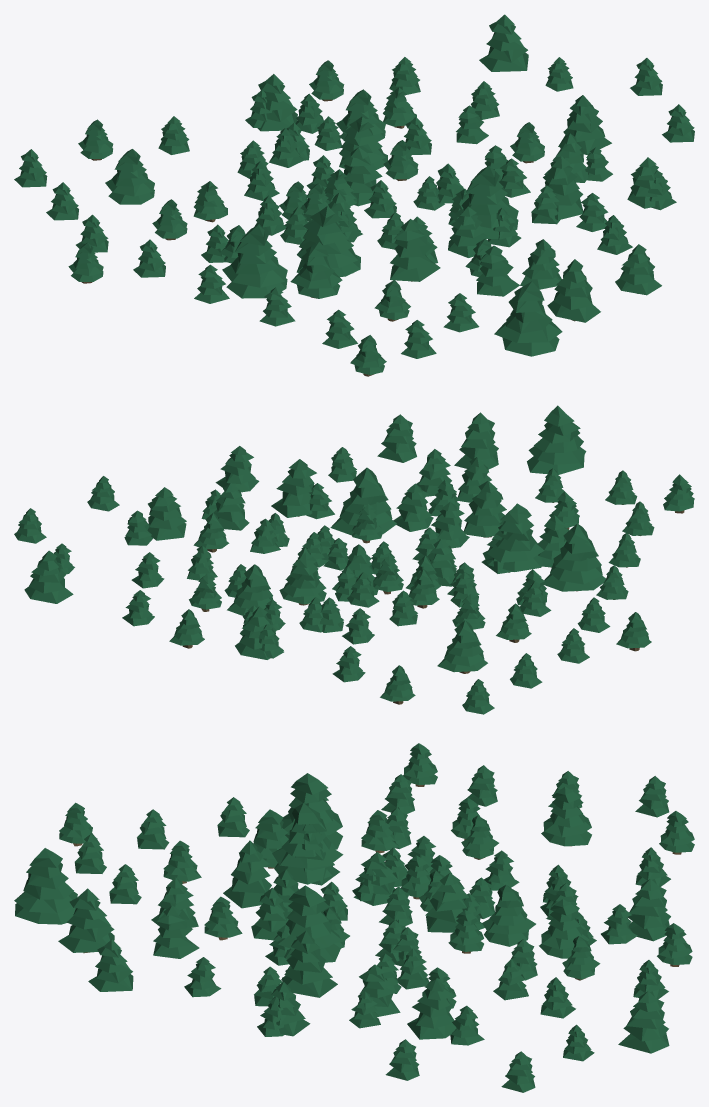
Rendered from trees.dae.
The picture shows the model from 3 angles, top to bottom: view 1: azimuth 30°, elevation 25°; view 2: azimuth 150°, elevation 25°; view 3: azimuth 270°, elevation 25°; orthographic projection. The views are drawn at different scales.
Visible parts, largest first — view 1: group_225, group_54, group_50, group_218, group_423, group_112, group_464; view 2: group_54, group_225, group_429, group_218, group_50, group_217, group_49, group_440, group_464; view 3: group_54, group_429, group_50, group_568, group_112, group_49, group_464, group_440, group_406, group_230.
Part boxes in pixels (bbox=[...]): group_225: bbox=[222, 264, 287, 287]; group_54: bbox=[494, 321, 562, 342]; group_50: bbox=[502, 336, 559, 356]; group_218: bbox=[226, 278, 287, 298]; group_423: bbox=[390, 260, 440, 281]; group_112: bbox=[547, 301, 600, 322]; group_464: bbox=[479, 52, 528, 71]; group_54: bbox=[528, 446, 586, 464]; group_225: bbox=[550, 562, 602, 584]; group_429: bbox=[487, 542, 544, 562]; group_218: bbox=[544, 573, 606, 591]; group_50: bbox=[527, 455, 584, 474]; group_217: bbox=[553, 553, 601, 571]; group_49: bbox=[534, 435, 583, 452]; group_440: bbox=[482, 550, 542, 571]; group_464: bbox=[24, 586, 73, 603]; group_54: bbox=[14, 891, 77, 913]; group_429: bbox=[272, 846, 343, 868]; group_50: bbox=[15, 903, 75, 924]; group_568: bbox=[282, 976, 337, 997]; group_112: bbox=[58, 932, 114, 952]; group_49: bbox=[23, 879, 73, 899]; group_464: bbox=[618, 1032, 669, 1053]; group_440: bbox=[274, 863, 332, 884]; group_406: bbox=[407, 1018, 456, 1039]; group_230: bbox=[543, 817, 591, 837].
Size of the model in its own units: 3040 by 2695 by 329.
